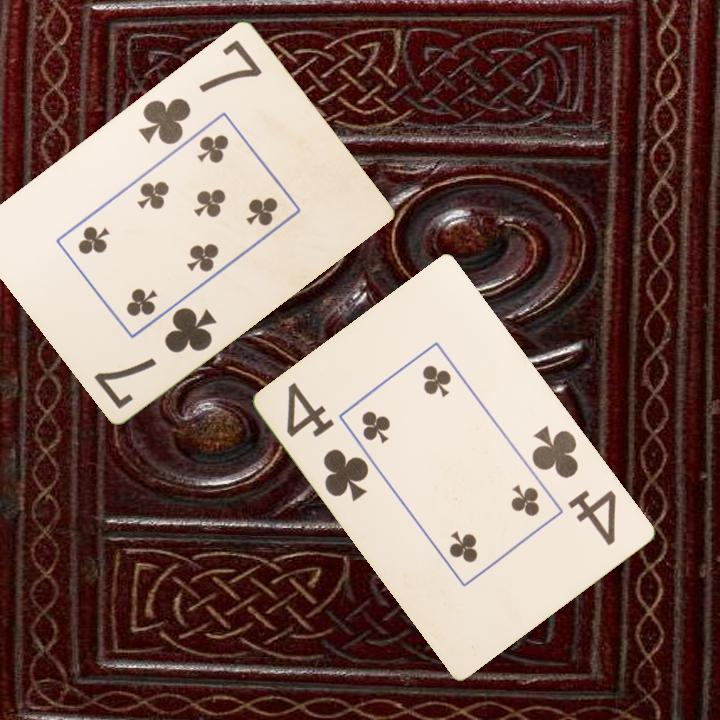4c: (528, 422, 621, 549), (283, 379, 373, 505)
7c: (135, 35, 265, 148), (90, 302, 220, 412)
